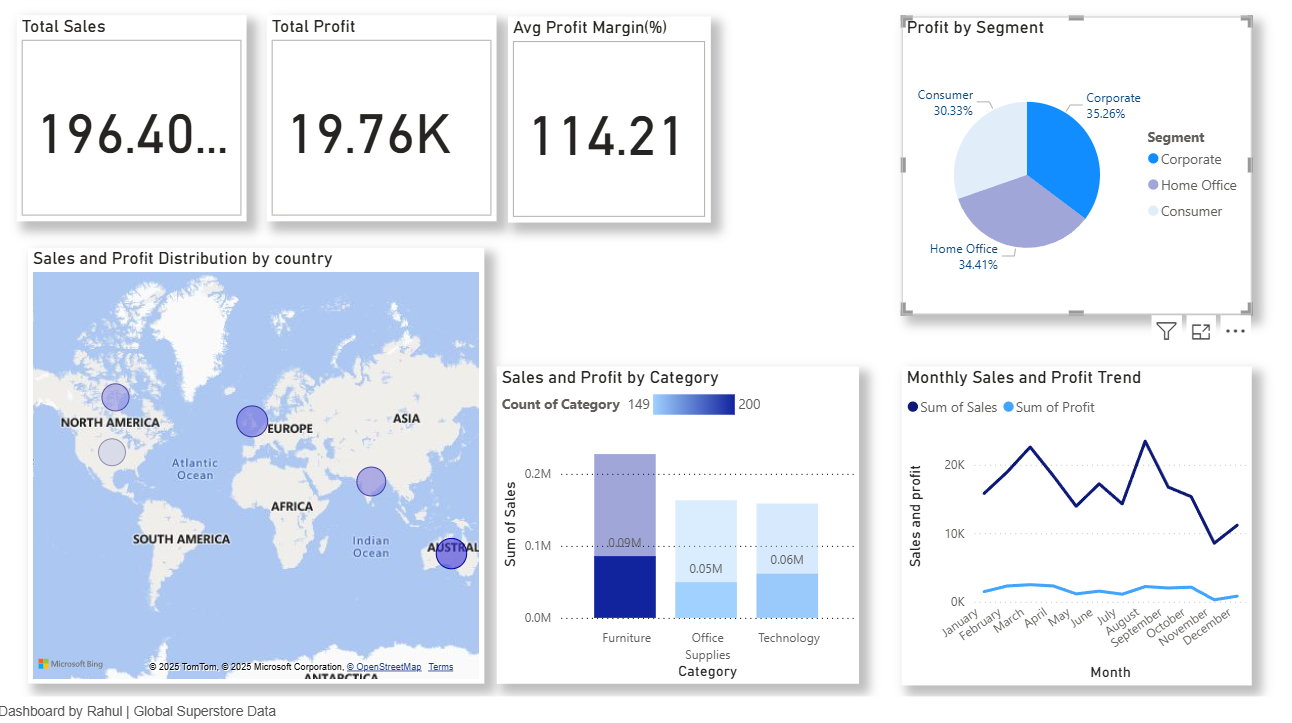

What the dashboard file says about the page in this screenshot:
{"tool":"powerbi","page":{"name":"Page 1","canvas":[1280,720],"ordinal":0},"visuals":[{"type":"cardVisual","title":"Total Sales","fields":{"Data":["Sum(Sheet1.Sales)"]},"box":[23.2,20.8,225,201.8],"z":0},{"type":"cardVisual","title":"Total Profit","fields":{"Data":["Sum(Sheet1.Profit)"]},"box":[267.8,20.8,225,201.8],"z":1000},{"type":"cardVisual","title":"Avg Profit Margin(%)","fields":{"Data":["Avg(Sheet1.Profit)"]},"box":[503.8,22,198.1,201.8],"z":2000},{"type":"map","title":"Sales and Profit Distribution by country","fields":{"Category":["Sheet1.Country"],"Size":["Sum(Sheet1.Sales)"]},"box":[34.2,248.2,446.3,426.8],"z":3000},{"type":"clusteredColumnChart","title":"Sales and Profit by Category","fields":{"Category":["Sheet1.Category"],"Y":["Sum(Sheet1.Sales)"]},"box":[492.8,364.4,344.8,310.6],"z":4000},{"type":"pieChart","title":"Profit by Segment","fields":{"Category":["Sheet1.Segment"],"Y":["Sum(Sheet1.Profit)"]},"box":[889,22,342.4,291],"z":5000},{"type":"lineChart","title":"Monthly Sales and Profit Trend","fields":{"Category":["Sheet1.Order Date.Variation.Date Hierarchy.Month"],"Y":["Sum(Sheet1.Sales)","Sum(Sheet1.Profit)"]},"box":[889,364.4,342.4,311.8],"z":6000},{"type":"textbox","box":[702,32,150,202],"z":7000},{"type":"textbox","box":[0,687.2,1280.3,33],"z":7001}]}

Visuals, with their boxes in screenshot pixels (x1, y1, x2, y2), scaled from the page's 1280x720 canvas onto the 1292x723 screenshot:
"Total Sales" cardVisual: [23,21,251,224]
"Total Profit" cardVisual: [270,21,497,224]
"Avg Profit Margin(%)" cardVisual: [509,22,708,225]
"Sales and Profit Distribution by country" map: [35,249,485,678]
"Sales and Profit by Category" clusteredColumnChart: [497,366,845,678]
"Profit by Segment" pieChart: [897,22,1243,314]
"Monthly Sales and Profit Trend" lineChart: [897,366,1243,679]
textbox: [709,32,860,235]
textbox: [0,690,1291,722]
